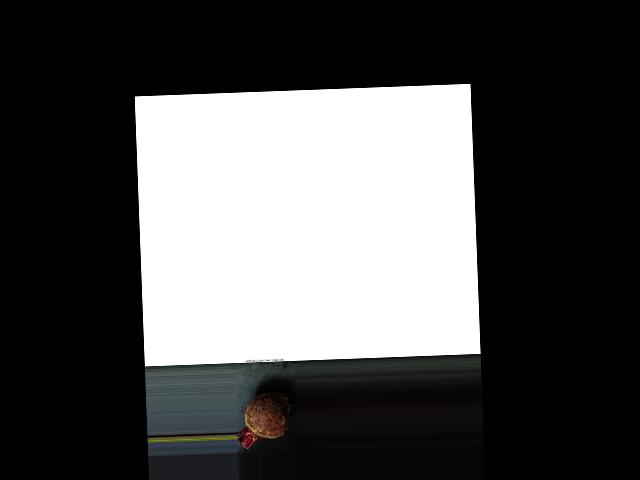beet: (235, 391, 293, 448)
